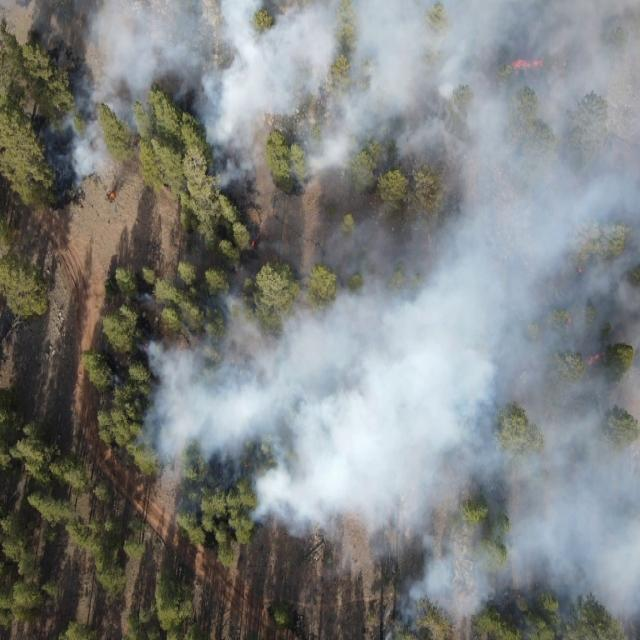fire: (510, 58, 546, 70), (584, 354, 602, 365), (584, 234, 590, 258), (106, 191, 118, 201), (565, 314, 574, 325), (577, 266, 585, 276), (250, 239, 256, 249)
smoke: (328, 174, 640, 640), (204, 0, 640, 176), (158, 268, 329, 542), (64, 1, 205, 118), (52, 118, 116, 181), (130, 334, 158, 477), (125, 290, 159, 310), (215, 175, 247, 195), (122, 116, 147, 136)
